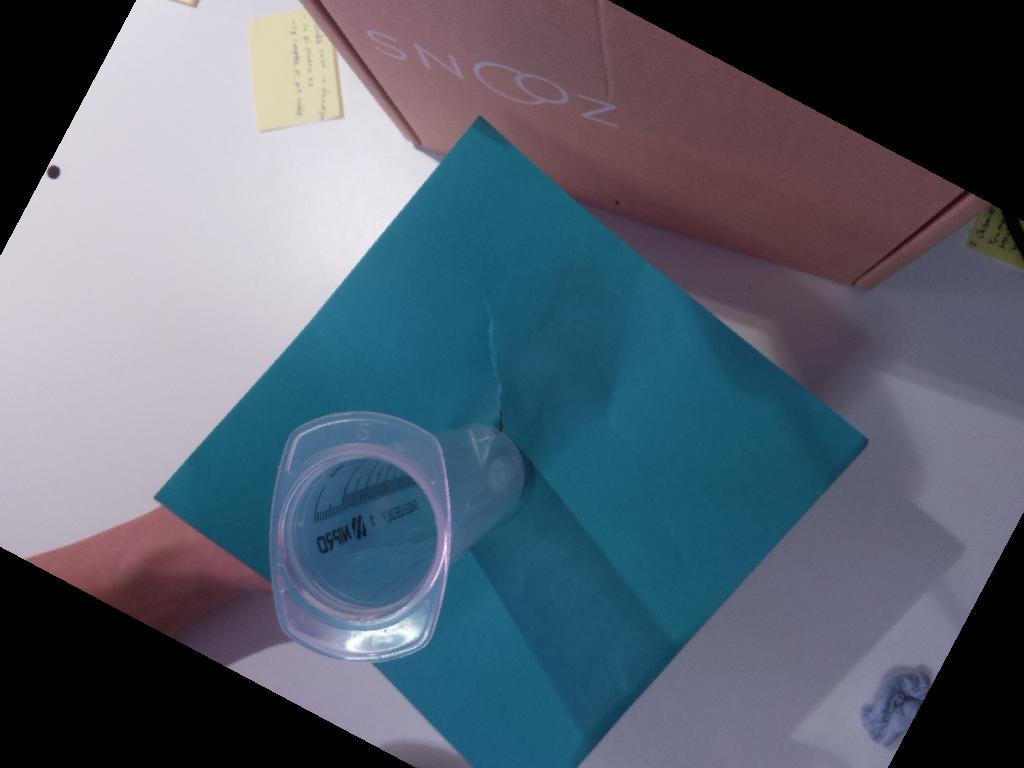clean: (266, 410, 455, 667)
